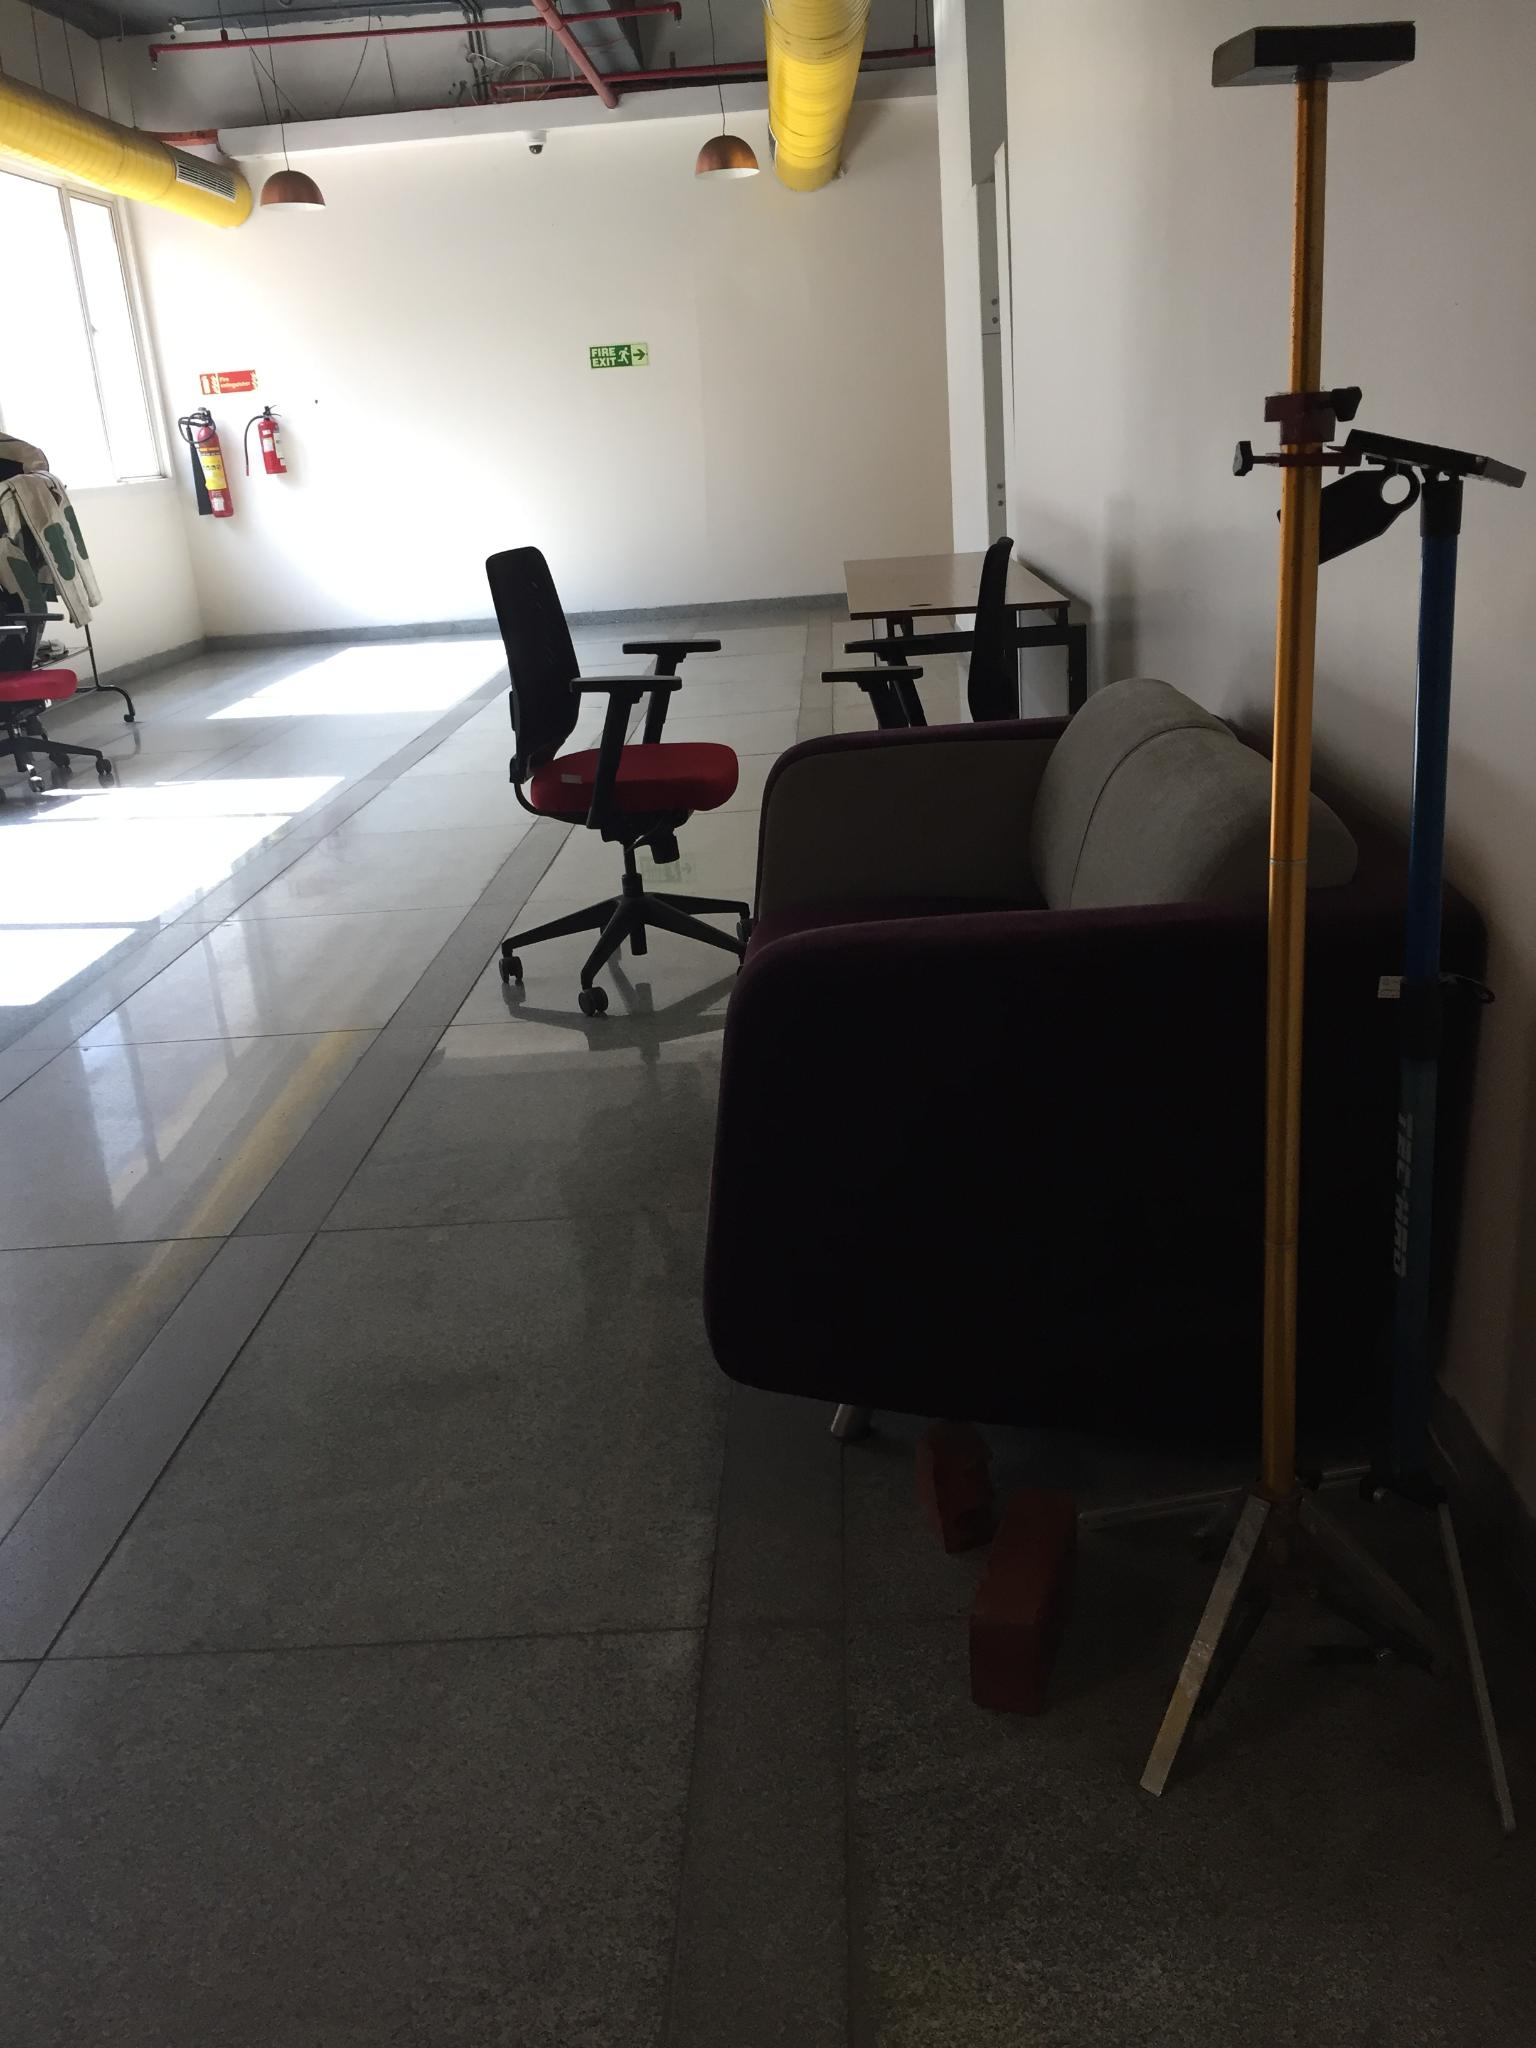chair: (486, 545, 750, 1018), (786, 560, 1086, 771), (8, 585, 111, 847)
